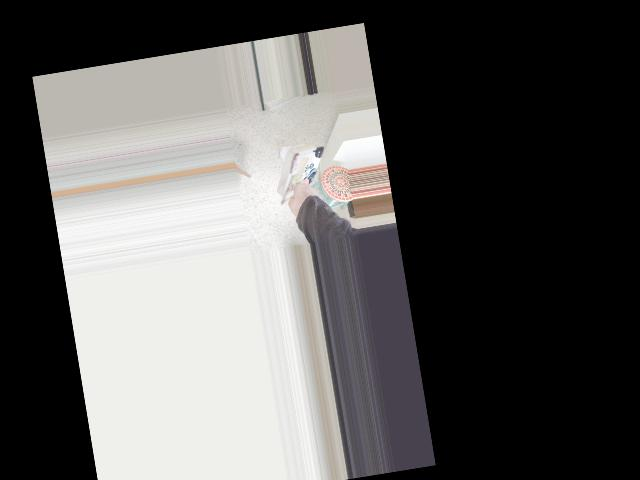cheese: (263, 138, 343, 218)
